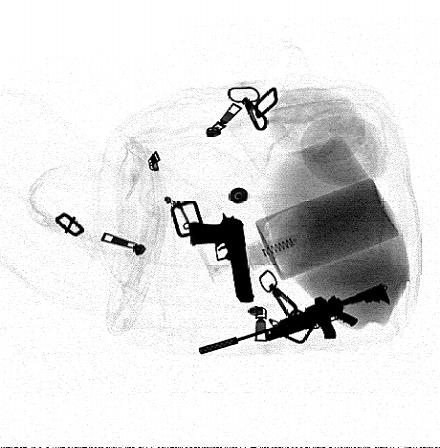Gun: (198, 281, 392, 356), (183, 210, 255, 303)
